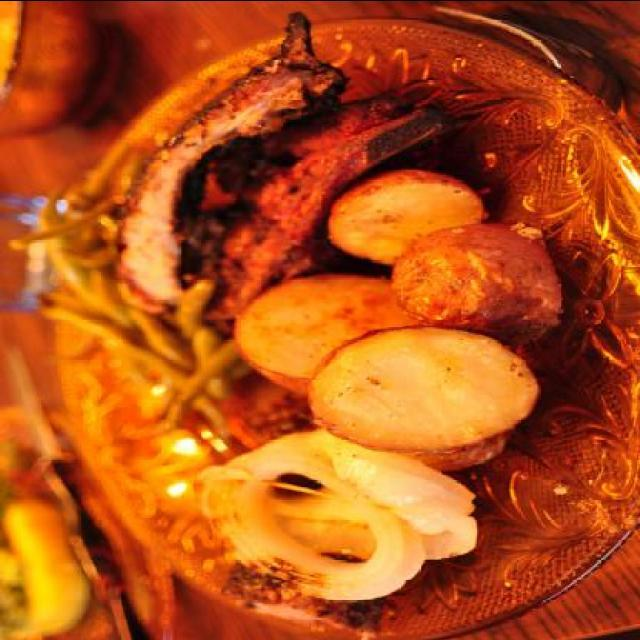Potato: (303, 320, 534, 468)
